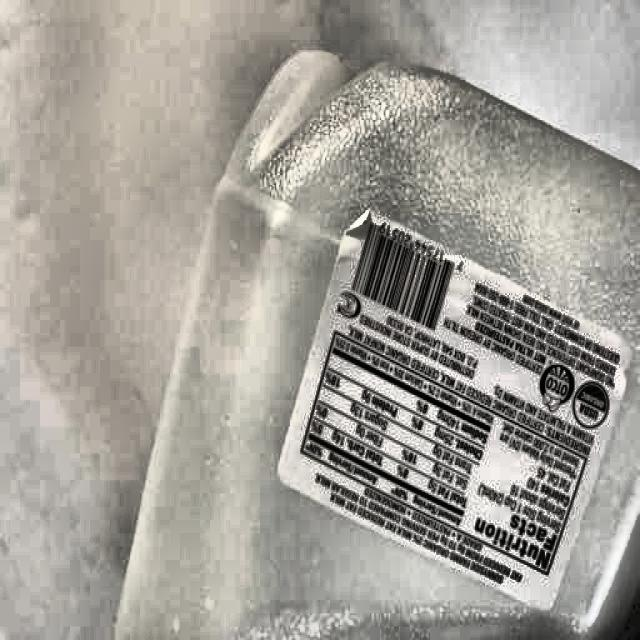plastic: (169, 49, 640, 640)
